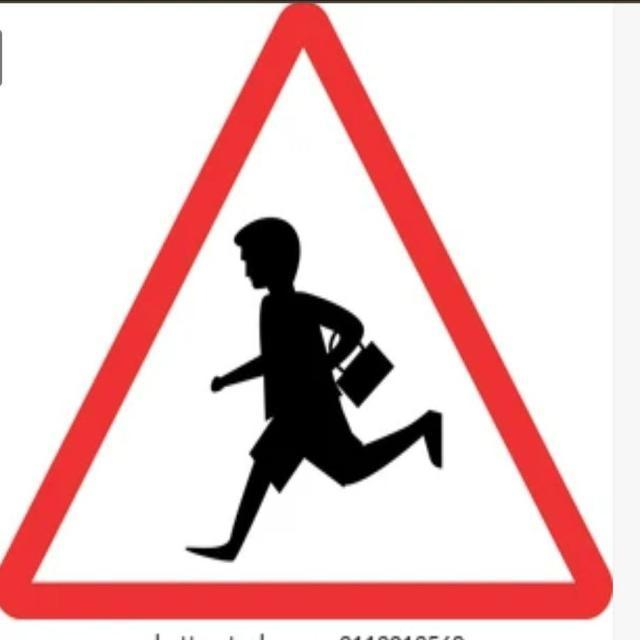school ahead: (21, 29, 618, 618)
